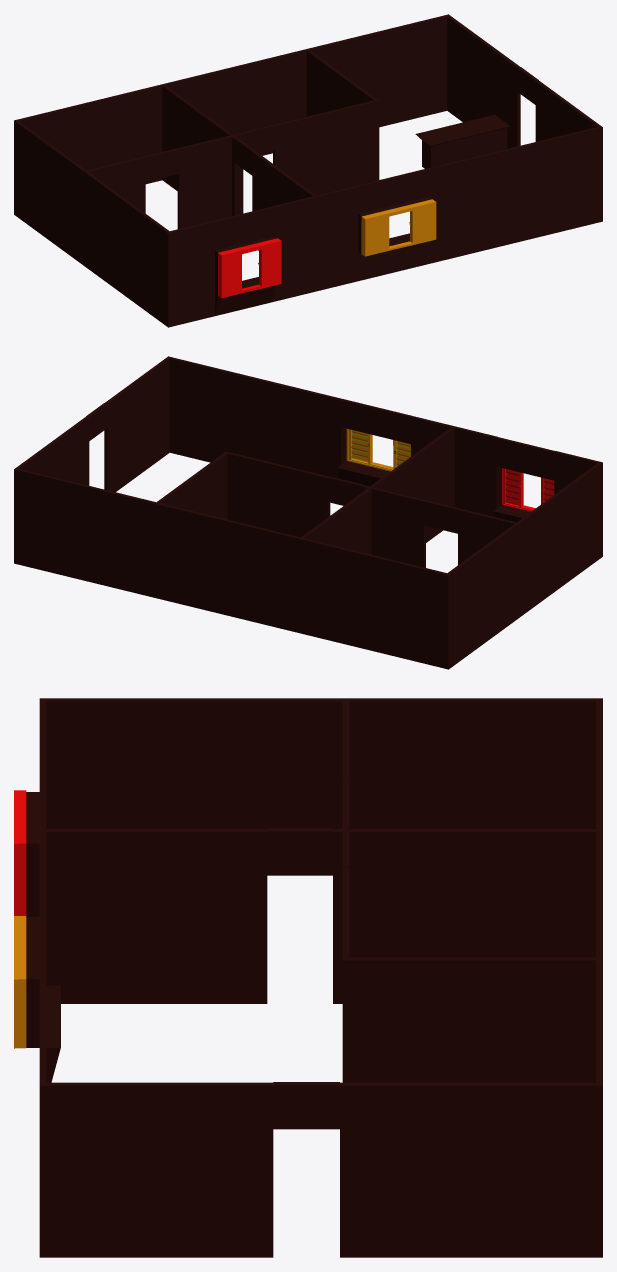
File: casafinalfaceok.obj
3 renders of one model, top to bottom at view 1: azimuth 30°, elevation 25°; view 2: azimuth 150°, elevation 25°; view 3: azimuth 270°, elevation 25°, orthographic. The views are drawn at different scales.
Visible parts, largest first — view 1: Plane; view 2: Plane; view 3: Plane.
Boxes of the visible parts, x1,y1,x2,y2 form: Plane: (14, 14, 602, 327); Plane: (14, 356, 602, 669); Plane: (14, 698, 602, 1257).
Bounding box in the file's own units: 3.37 × 0.7 × 2.17.
